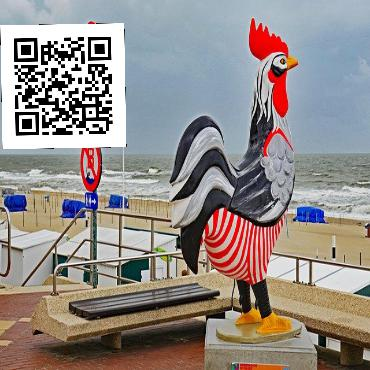qr_code: (0, 22, 126, 148)
